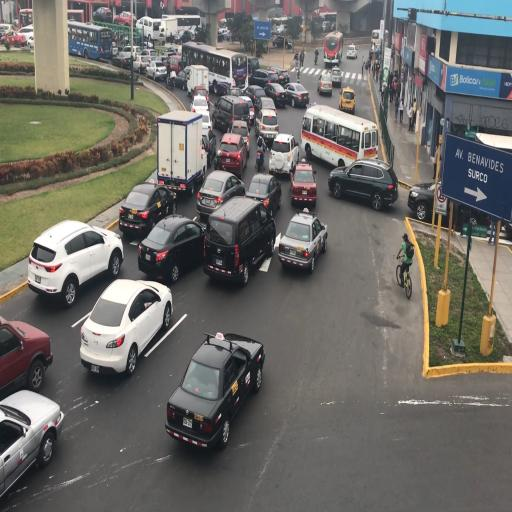auto: (165, 328, 263, 451), (79, 278, 171, 372), (29, 219, 122, 306), (1, 390, 63, 506), (204, 198, 274, 286), (137, 213, 206, 284), (1, 310, 52, 402), (119, 179, 176, 237), (331, 157, 393, 209), (278, 210, 326, 274), (196, 168, 246, 220), (408, 179, 457, 225), (244, 172, 282, 218), (213, 94, 252, 136), (215, 131, 249, 178), (268, 132, 298, 179), (290, 160, 316, 209), (255, 104, 279, 145), (244, 84, 271, 116), (262, 80, 289, 108), (284, 81, 309, 108), (248, 68, 277, 90), (116, 45, 141, 68), (146, 59, 168, 82), (136, 48, 158, 71), (338, 85, 356, 113), (195, 110, 213, 138), (0, 29, 26, 47), (317, 69, 333, 96), (166, 53, 184, 77), (270, 67, 290, 88), (172, 67, 190, 90), (114, 10, 136, 26), (92, 7, 113, 23), (272, 35, 292, 49), (330, 67, 342, 86), (346, 44, 358, 59), (218, 26, 230, 40)
bus: (156, 107, 206, 200), (186, 63, 209, 102)
camion: (255, 145, 266, 173)
moto: (305, 103, 373, 169), (183, 41, 246, 93), (68, 20, 112, 62), (161, 13, 202, 42), (323, 29, 344, 67), (138, 16, 163, 42), (18, 8, 33, 29), (65, 9, 84, 25), (371, 28, 381, 52)
